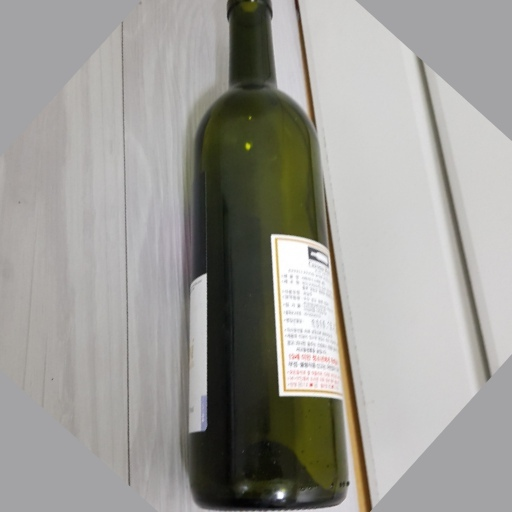Glass_2: (191, 1, 353, 512)
